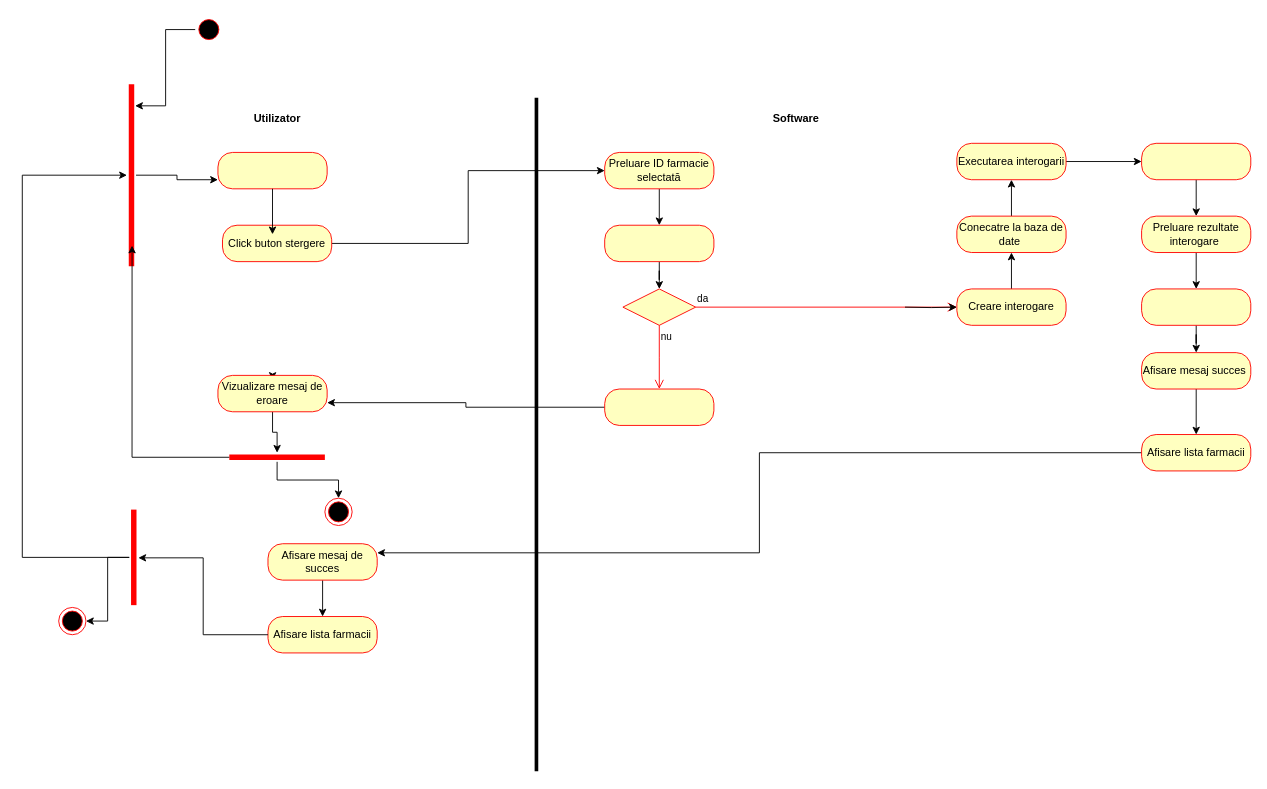
The diagram is 1267 pixels wide and 789 high, and some of its shapes have lost their labels. Here are the shapes that lost their labels. From the top down, the centre of each, then its label:
At point 272,170: "Selectare din lista farmacie".
At point 1196,161: "Deconectare de la baza de date".
At point 659,243: "Validare date".
At point 1196,306: "Analiza rezultat".
At point 659,406: "Afiseaza mesaj de eroare".
